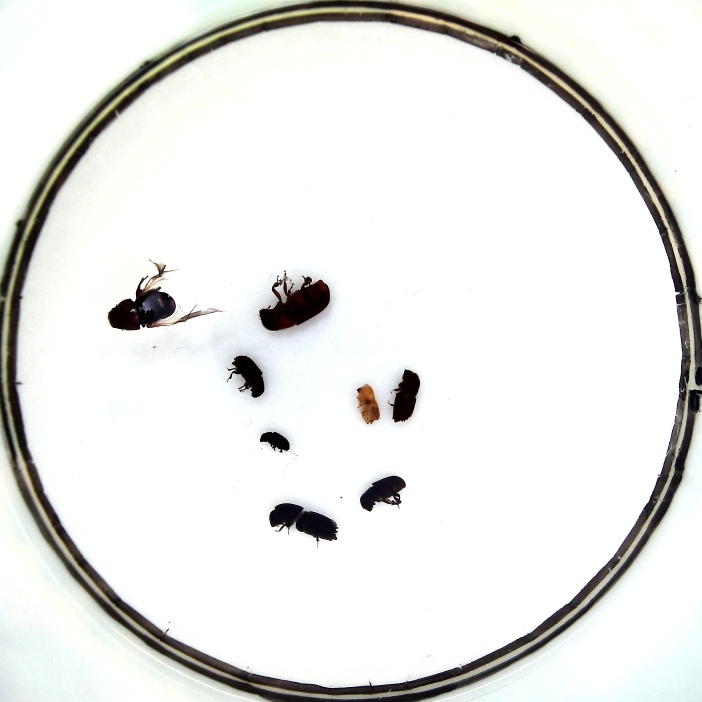acuminatus: (259, 431, 290, 453)
armandi: (360, 476, 406, 511), (232, 355, 265, 398)
boerner: (269, 502, 338, 542)
coleoptera: (357, 383, 381, 424)
leconte: (259, 279, 330, 331), (108, 287, 177, 330)
linnaeus: (392, 369, 420, 423)
